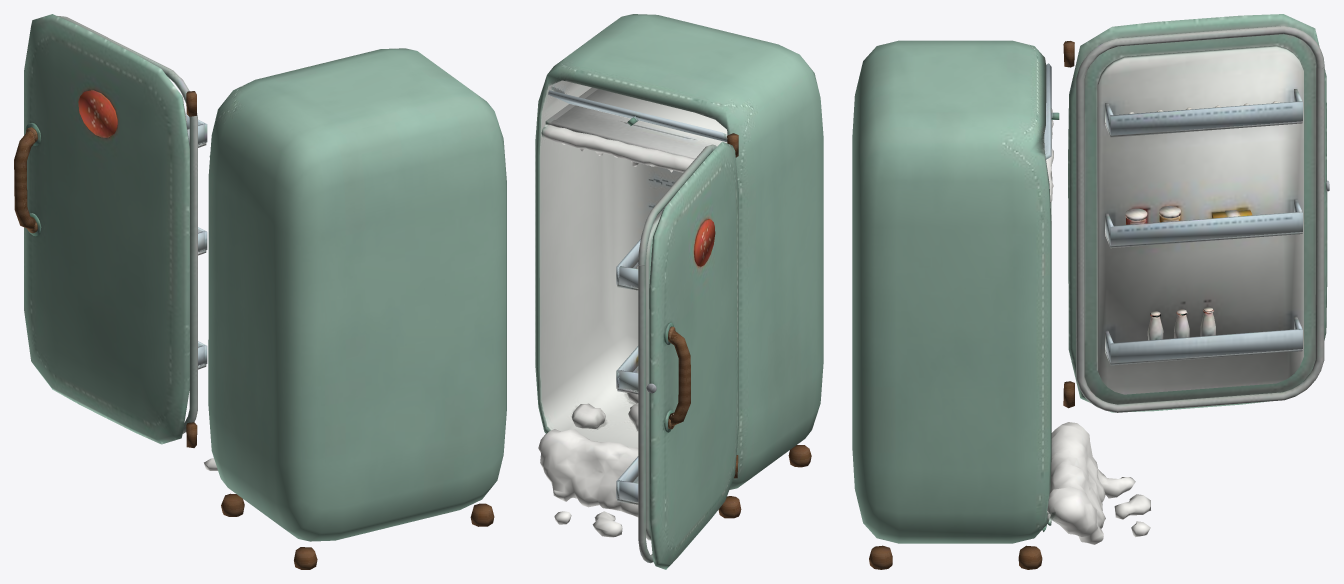
The model's file is snowman_fridge.glb.
The picture shows the model from 3 angles, left to right: view 1: azimuth 30°, elevation 25°; view 2: azimuth 150°, elevation 25°; view 3: azimuth 270°, elevation 25°; orthographic projection. The views are drawn at different scales.
Parts seen in each view (by area): view 1: prop_snowman_fridge_felt, prop_door_felt, prop_snowman_fridge_wood, prop_door_wood; view 2: prop_snowman_fridge_felt, prop_door_felt, prop_door_wood, prop_snowman_fridge_wood; view 3: prop_snowman_fridge_felt, prop_door_felt, prop_snowman_fridge_wood.
Part boxes in pixels (x1=…): prop_snowman_fridge_felt: x1=204, y1=48, x2=506, y2=541; prop_door_felt: x1=24, y1=14, x2=207, y2=444; prop_snowman_fridge_wood: x1=186, y1=91, x2=494, y2=569; prop_door_wood: x1=14, y1=127, x2=37, y2=233; prop_snowman_fridge_felt: x1=535, y1=14, x2=823, y2=537; prop_door_felt: x1=616, y1=141, x2=738, y2=569; prop_door_wood: x1=668, y1=326, x2=690, y2=429; prop_snowman_fridge_wood: x1=718, y1=133, x2=811, y2=518; prop_snowman_fridge_felt: x1=852, y1=40, x2=1150, y2=544; prop_door_felt: x1=1068, y1=14, x2=1327, y2=412; prop_snowman_fridge_wood: x1=869, y1=41, x2=1074, y2=569.
Size of the model in its own units: 1.41 by 2 by 1.96.
5 materials, 4 textured.
